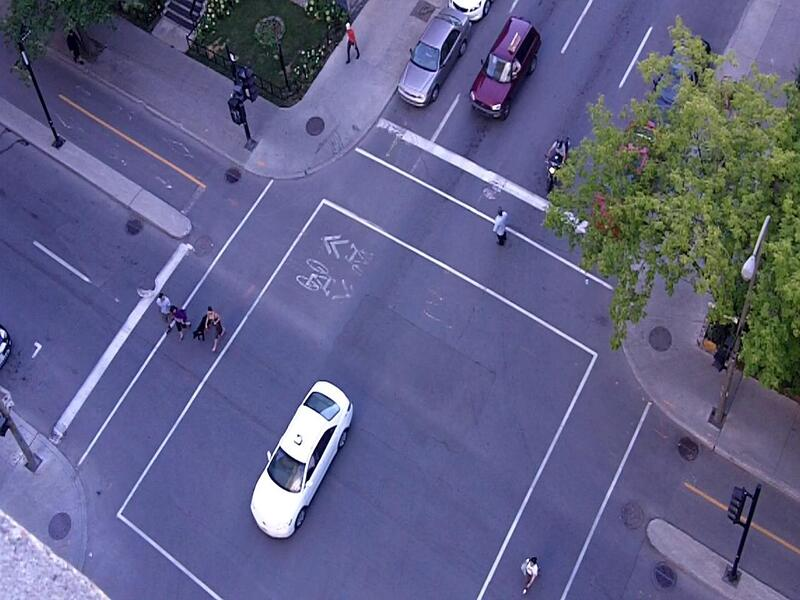car: (250, 380, 353, 540), (470, 16, 541, 120)
